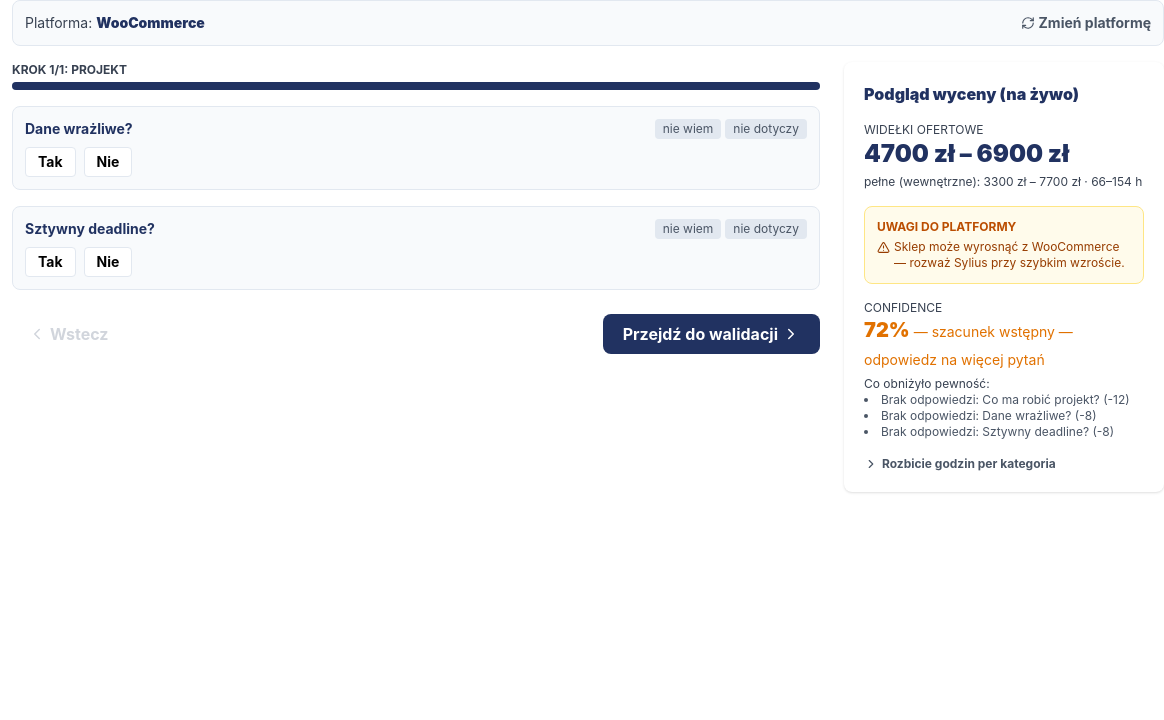
Test: E2E f1b — przepływ do walidacji (bez finalize) › przepływ do walidacji: odpowiedz oba → „Przejdź do walidacji" → ekran walidacji (bez finalize)
Step 1. Click the 1st button "Nie" → (108, 162), box [84,147,132,177]
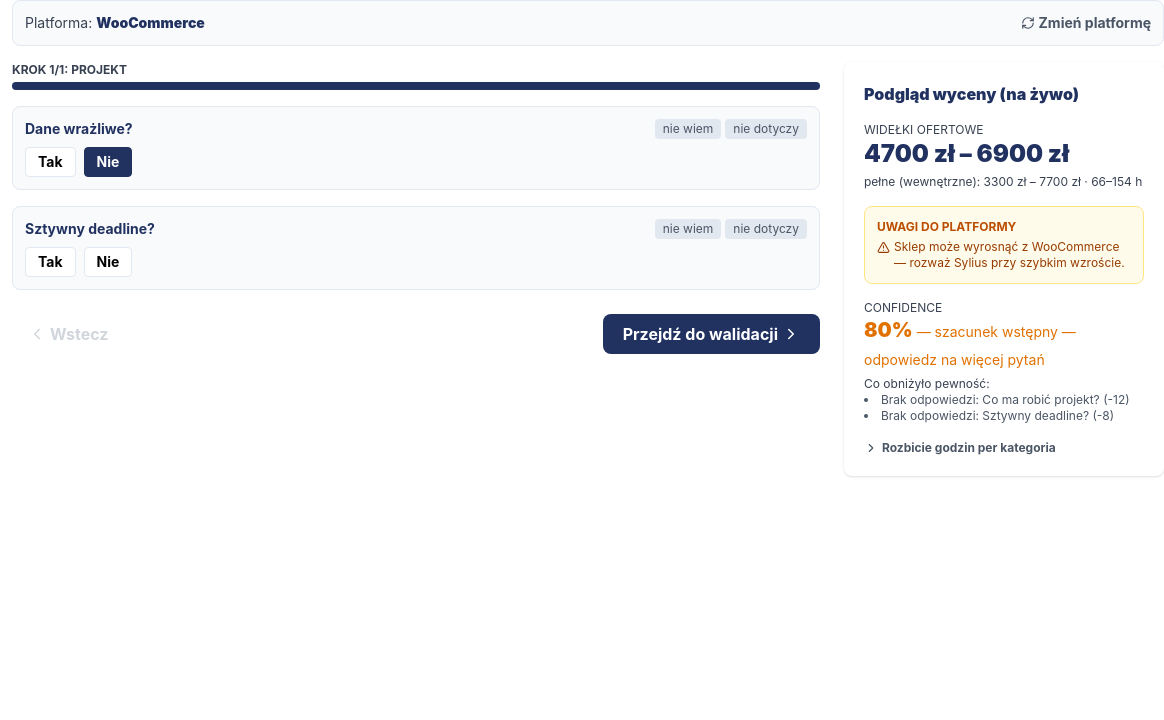
Step 2. Click the 2nd button "Nie" → (108, 262), box [84,247,132,277]
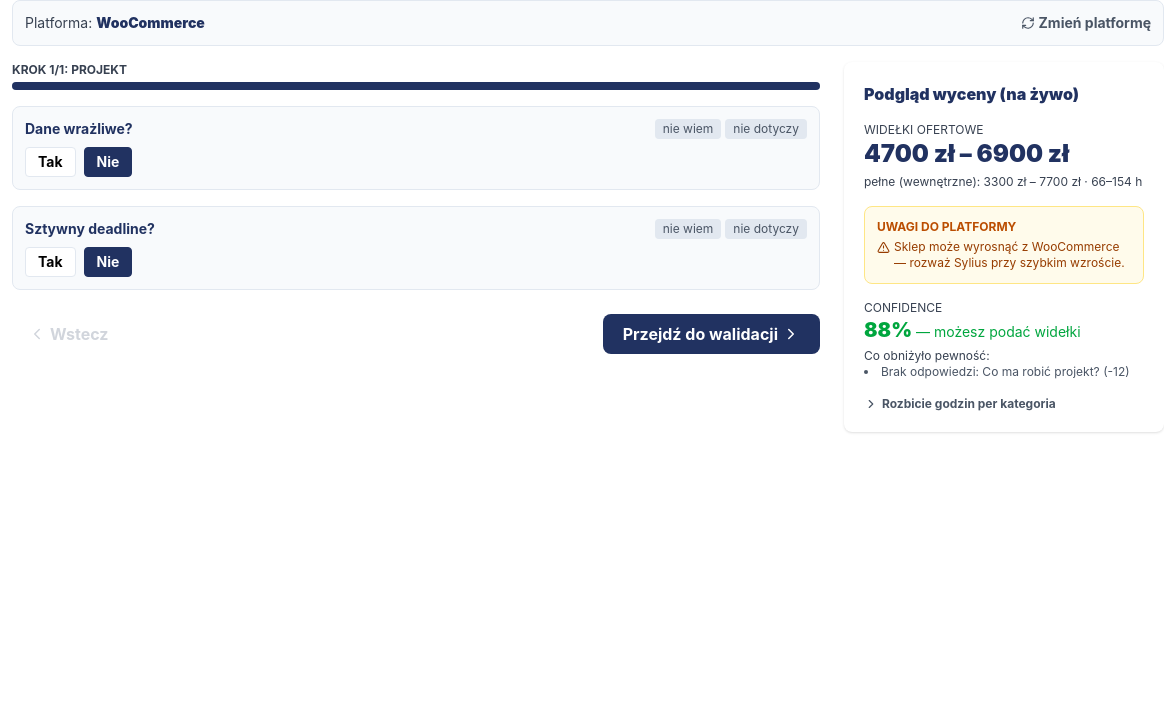
Step 3. Click the button "Przejdź do walidacji" → (711, 334), box [603,314,820,354]
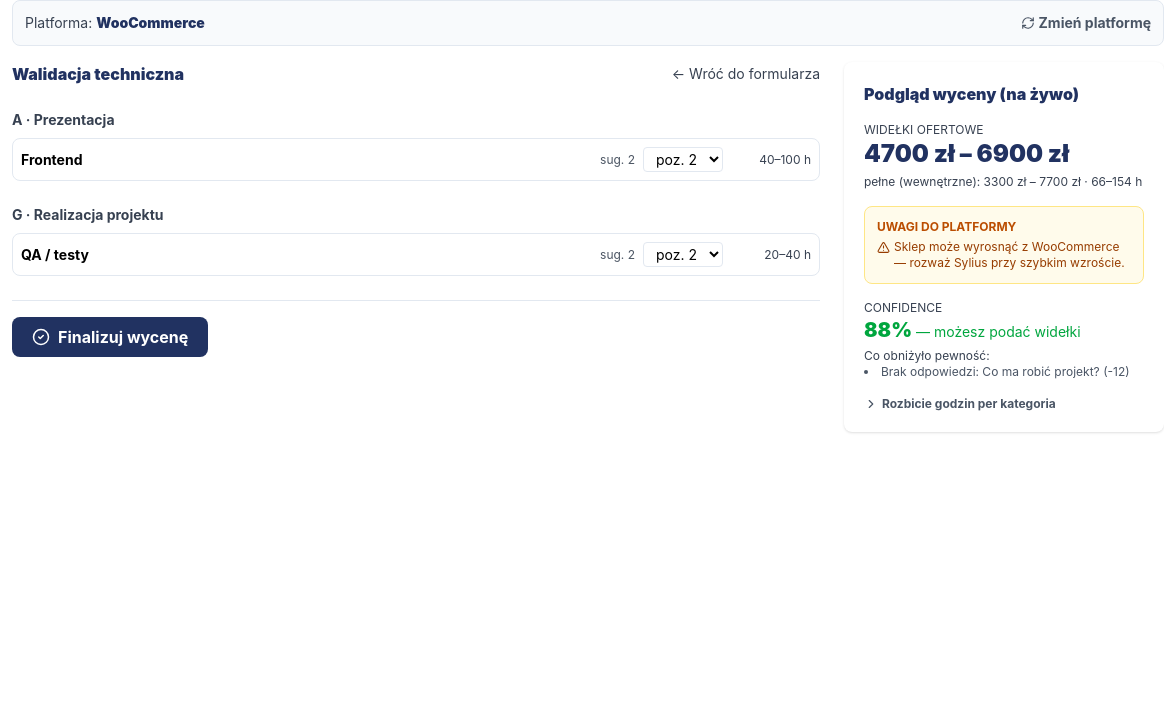
Expected: the text "Frontend" is shown, [21,150,82,168]
Expected: the button "Finalizuj wycenę" is shown, [12,317,208,357]
